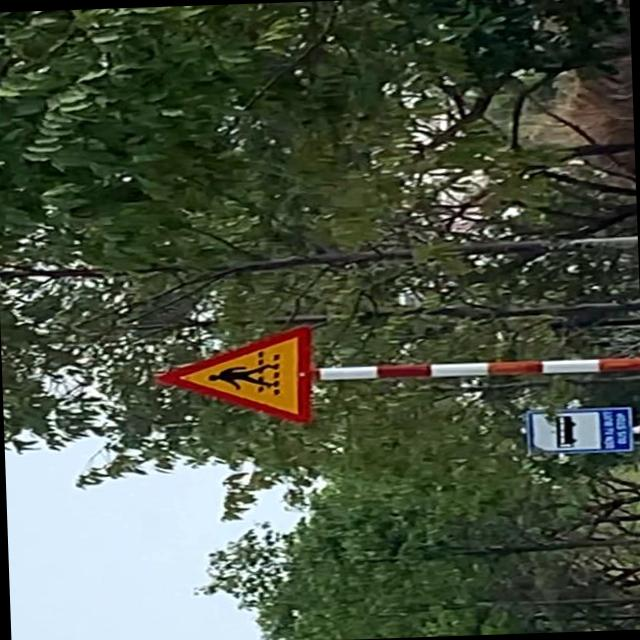W-224: (154, 324, 316, 432)
